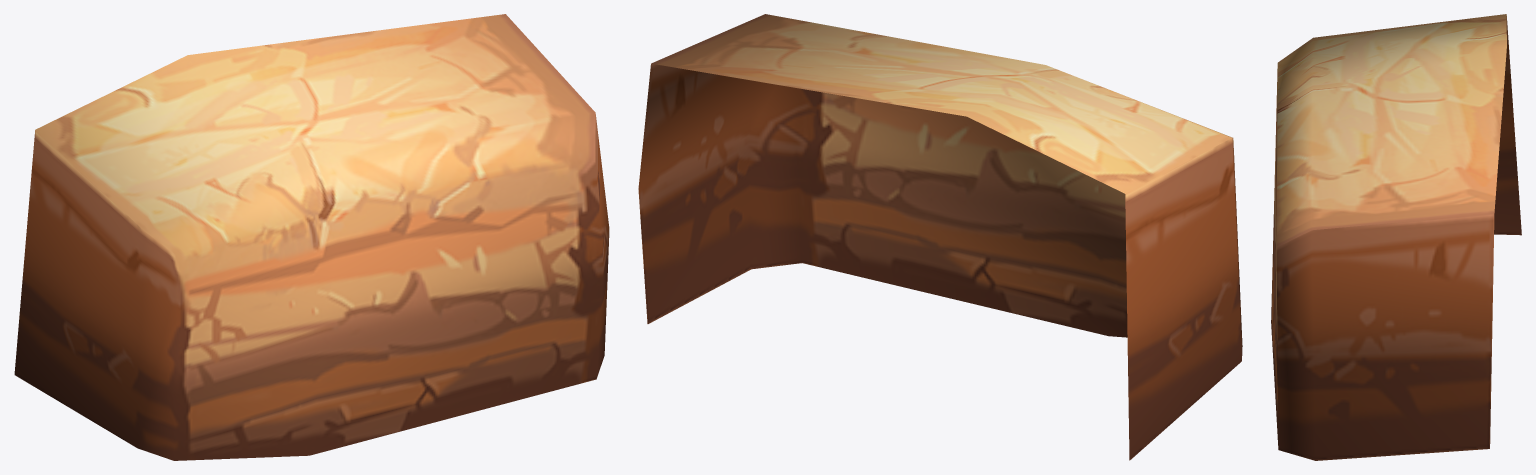
The model's file is Chapter1Scene1Model8.FBX.
3 renders of one model, left to right at view 1: azimuth 30°, elevation 25°; view 2: azimuth 150°, elevation 25°; view 3: azimuth 270°, elevation 25°, orthographic. The views are drawn at different scales.
Visible parts, largest first — view 1: Chapter1Scene1Model8; view 2: Chapter1Scene1Model8; view 3: Chapter1Scene1Model8.
Boxes of the visible parts, x1,y1,x2,y2 form: Chapter1Scene1Model8: (14, 14, 609, 460); Chapter1Scene1Model8: (638, 14, 1242, 460); Chapter1Scene1Model8: (1271, 14, 1521, 460).
Size of the model in its own units: 152 by 73.79 by 90.21.
